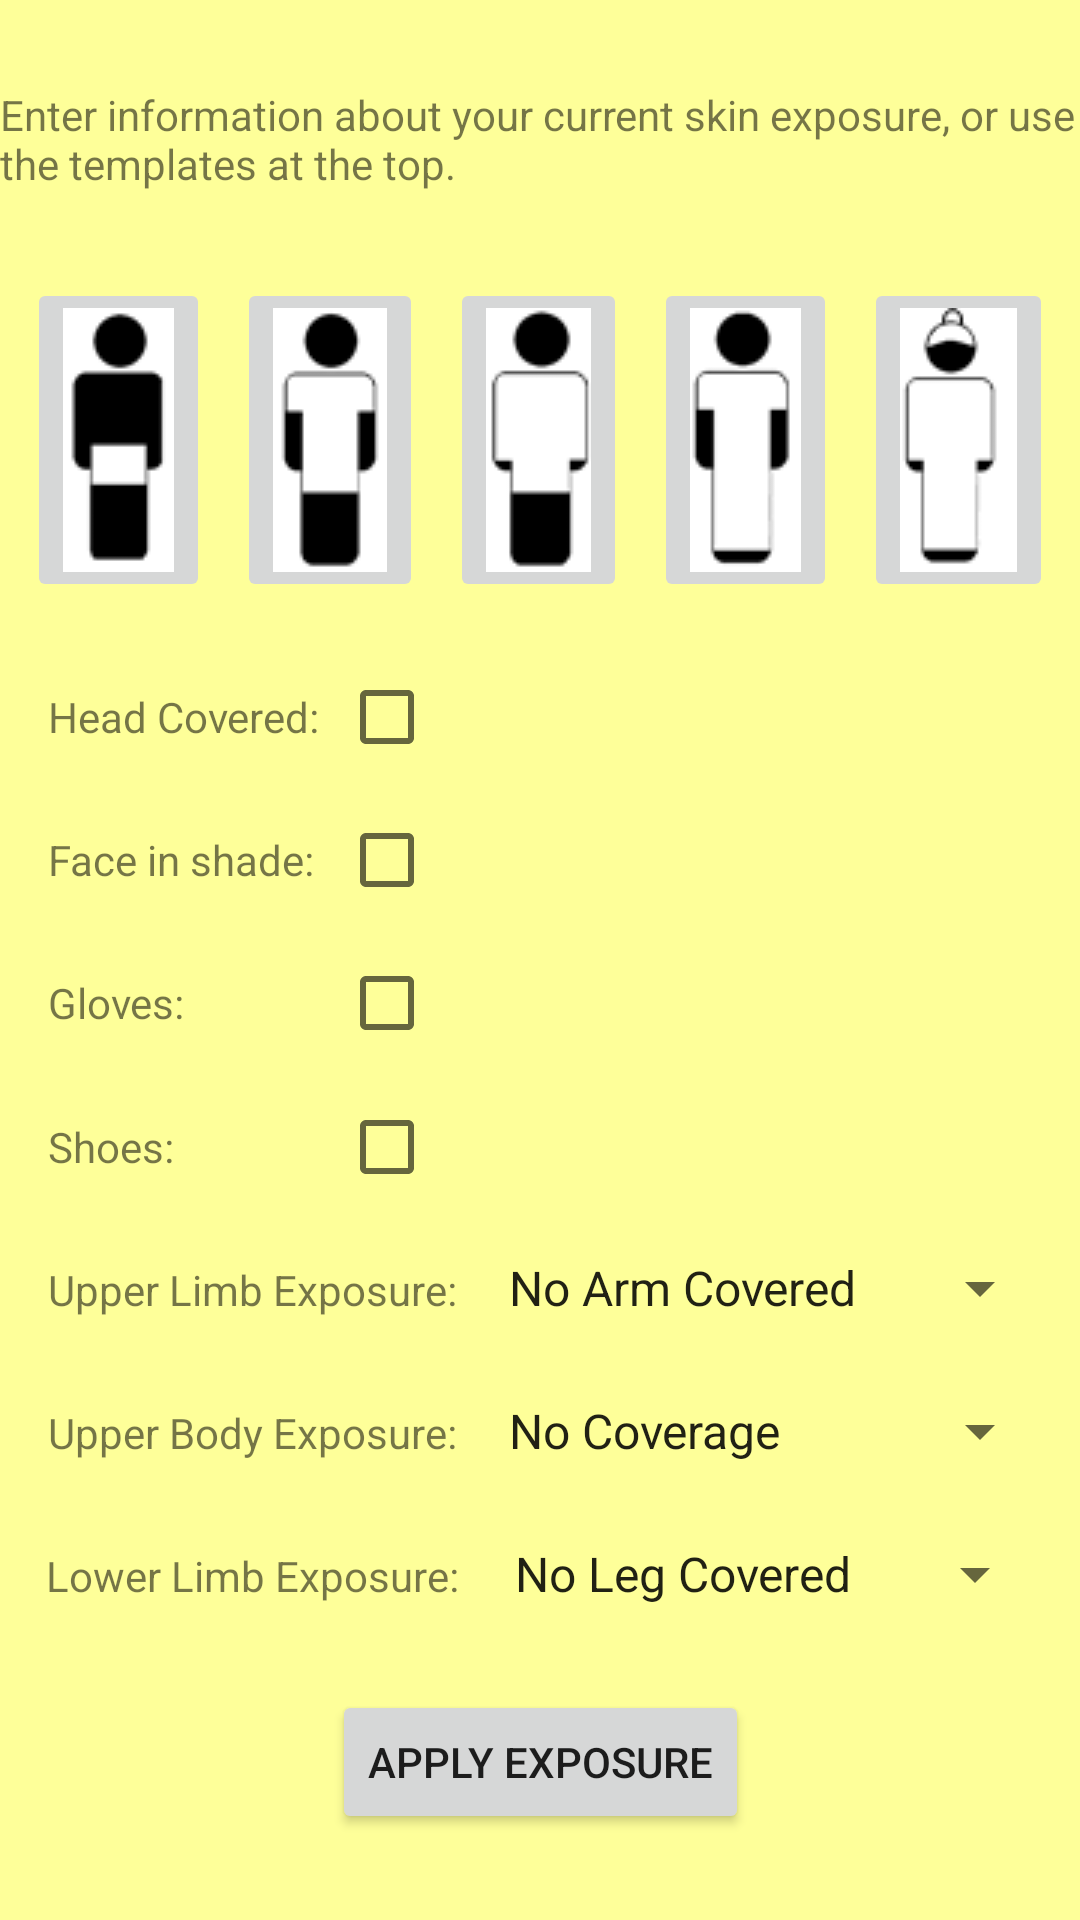

Locate icon controls on the screen. Image size 1080*1920, boxes as (x1, y1, x2, y2).
long short template: (462, 296, 615, 584)
long template: (876, 296, 1041, 584)
no short template: (39, 296, 198, 584)
short long template: (666, 296, 825, 584)
short template: (249, 296, 411, 584)
